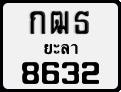letters: (81, 61, 101, 85), (50, 10, 69, 35), (21, 60, 40, 85), (41, 60, 60, 85), (28, 10, 46, 35), (61, 61, 80, 84), (73, 10, 90, 35)
province: (43, 41, 79, 55)
